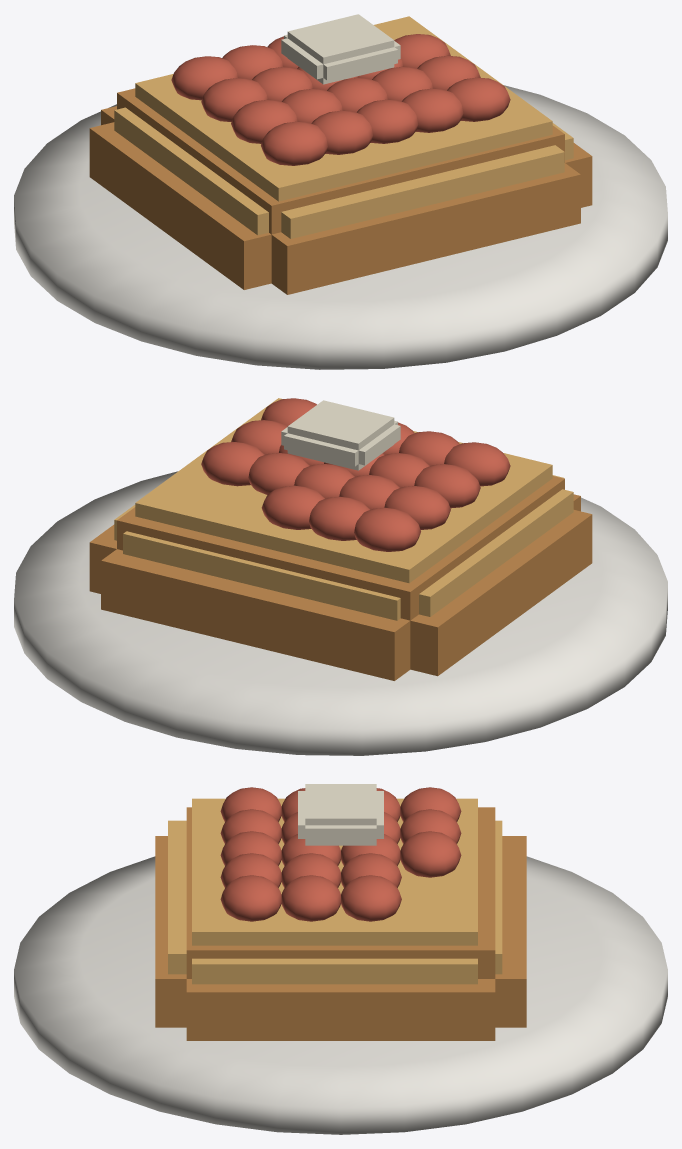
Rendered from dish_ogura_toast.glb.
3 views of the same model, one above another, from view 1: azimuth 30°, elevation 25°; view 2: azimuth 150°, elevation 25°; view 3: azimuth 270°, elevation 25° (orthographic).
Visible parts, largest first — view 1: dish_ogura_toast_Warm_white_coating, dish_ogura_toast_Laminated_pastry, dish_ogura_toast_Melon_bread_crust, dish_ogura_toast_Fair_vermilion, dish_ogura_toast_Warm_cream_enamel; view 2: dish_ogura_toast_Warm_white_coating, dish_ogura_toast_Laminated_pastry, dish_ogura_toast_Melon_bread_crust, dish_ogura_toast_Fair_vermilion, dish_ogura_toast_Warm_cream_enamel; view 3: dish_ogura_toast_Warm_white_coating, dish_ogura_toast_Laminated_pastry, dish_ogura_toast_Melon_bread_crust, dish_ogura_toast_Fair_vermilion, dish_ogura_toast_Warm_cream_enamel.
Boxes of the visible parts, box(x1,y1,x2,y2) form: dish_ogura_toast_Warm_white_coating: box(14, 85, 667, 369); dish_ogura_toast_Laminated_pastry: box(89, 88, 592, 294); dish_ogura_toast_Melon_bread_crust: box(114, 16, 573, 238); dish_ogura_toast_Fair_vermilion: box(171, 34, 510, 165); dish_ogura_toast_Warm_cream_enamel: box(281, 14, 400, 84); dish_ogura_toast_Warm_white_coating: box(14, 471, 667, 755); dish_ogura_toast_Laminated_pastry: box(89, 476, 592, 680); dish_ogura_toast_Melon_bread_crust: box(114, 398, 573, 620); dish_ogura_toast_Fair_vermilion: box(201, 398, 510, 551); dish_ogura_toast_Warm_cream_enamel: box(281, 400, 400, 470); dish_ogura_toast_Warm_white_coating: box(14, 856, 667, 1134); dish_ogura_toast_Laminated_pastry: box(155, 807, 526, 1040); dish_ogura_toast_Melon_bread_crust: box(168, 798, 502, 984); dish_ogura_toast_Fair_vermilion: box(220, 787, 461, 921); dish_ogura_toast_Warm_cream_enamel: box(298, 784, 383, 845).
Bounding box in the file's own units: 0.44 × 0.17 × 0.44.
